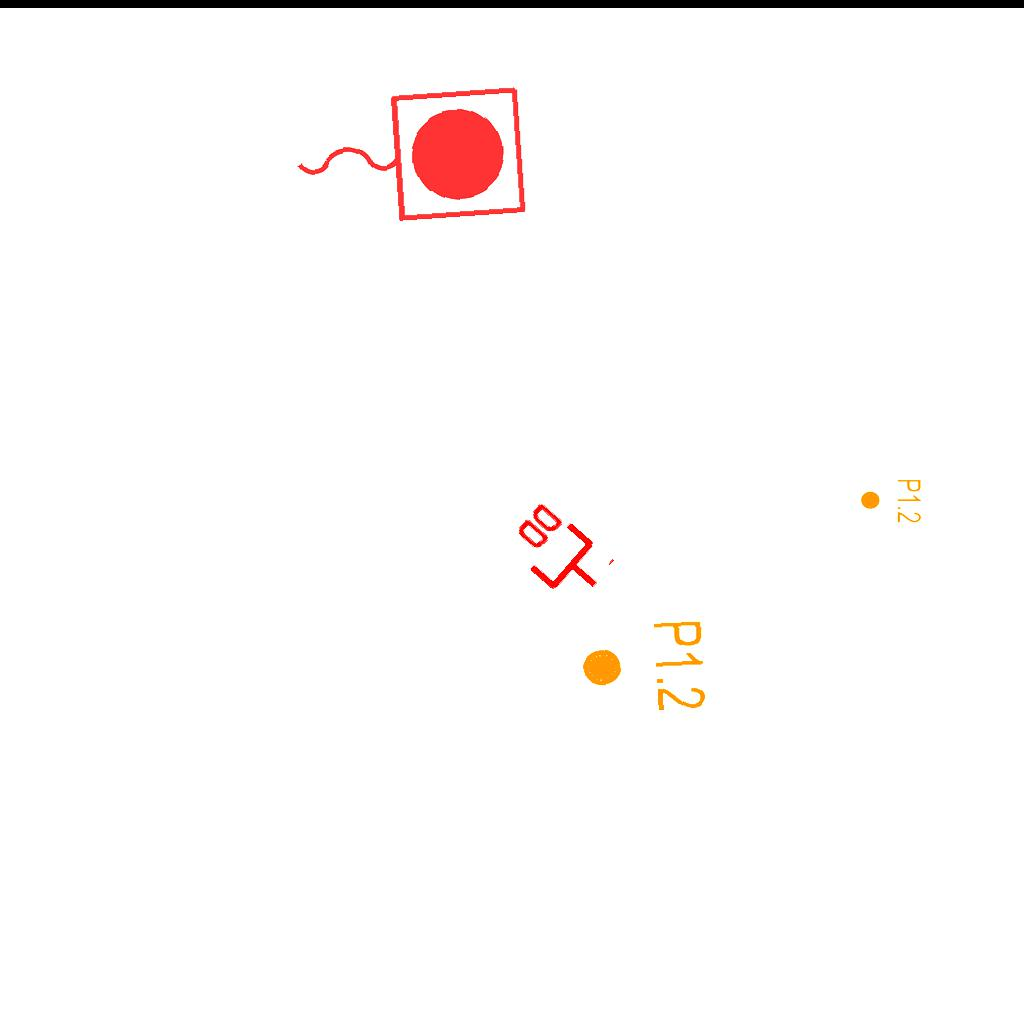Datenanschluss_zweifach: (495, 494, 620, 615)
Downlight_LED_Einbauleuchten_Flur: (577, 617, 710, 717), (859, 478, 923, 524)
Zugtaster: (281, 75, 535, 237)
